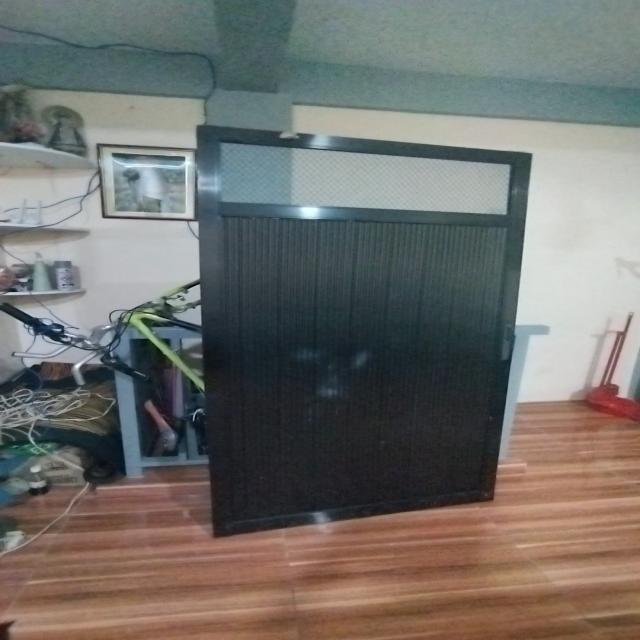door: (177, 119, 529, 538)
